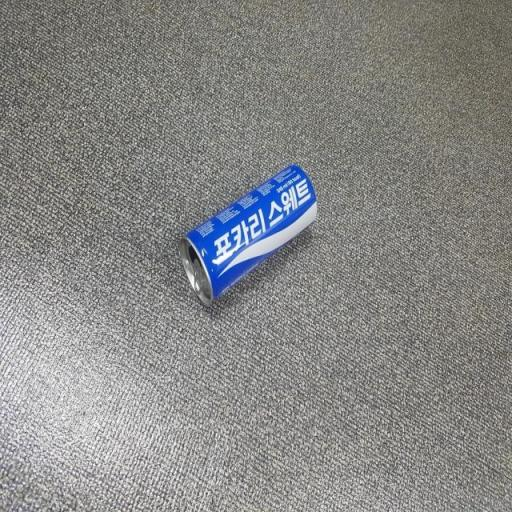metal: (170, 147, 329, 317)
